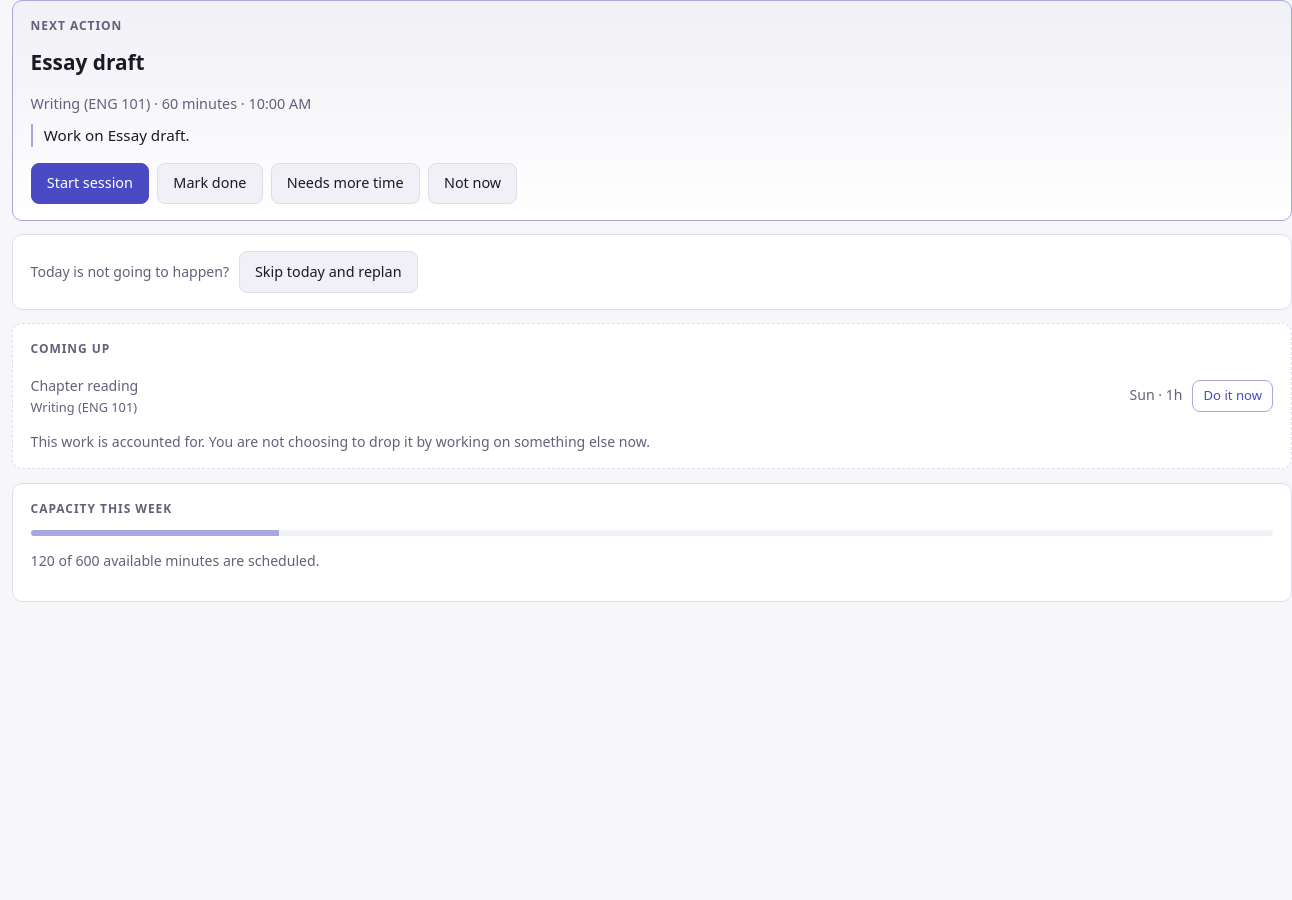
Today, do it now on a Coming up row › shows the failure and leaves the plan alone when the server refuses
The width and height of the screenshot is (1292, 900).
Click the button with class "do-now".
click(1233, 396)  # box [1192,380,1273,412]
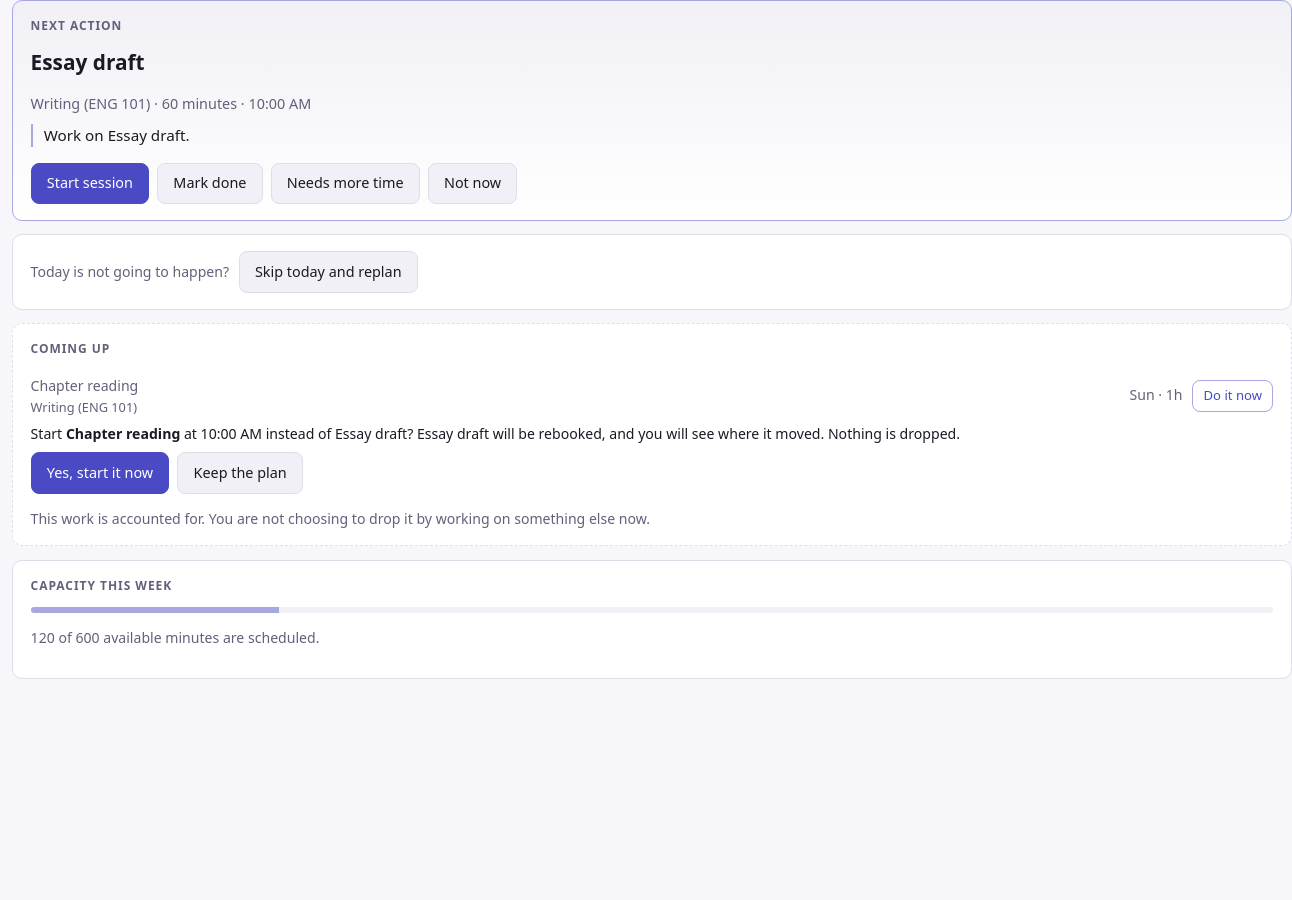
expect the button "Yes, start it now" is shown: met
Click the button "Yes, start it now".
click(100, 473)  # box [31,452,169,494]
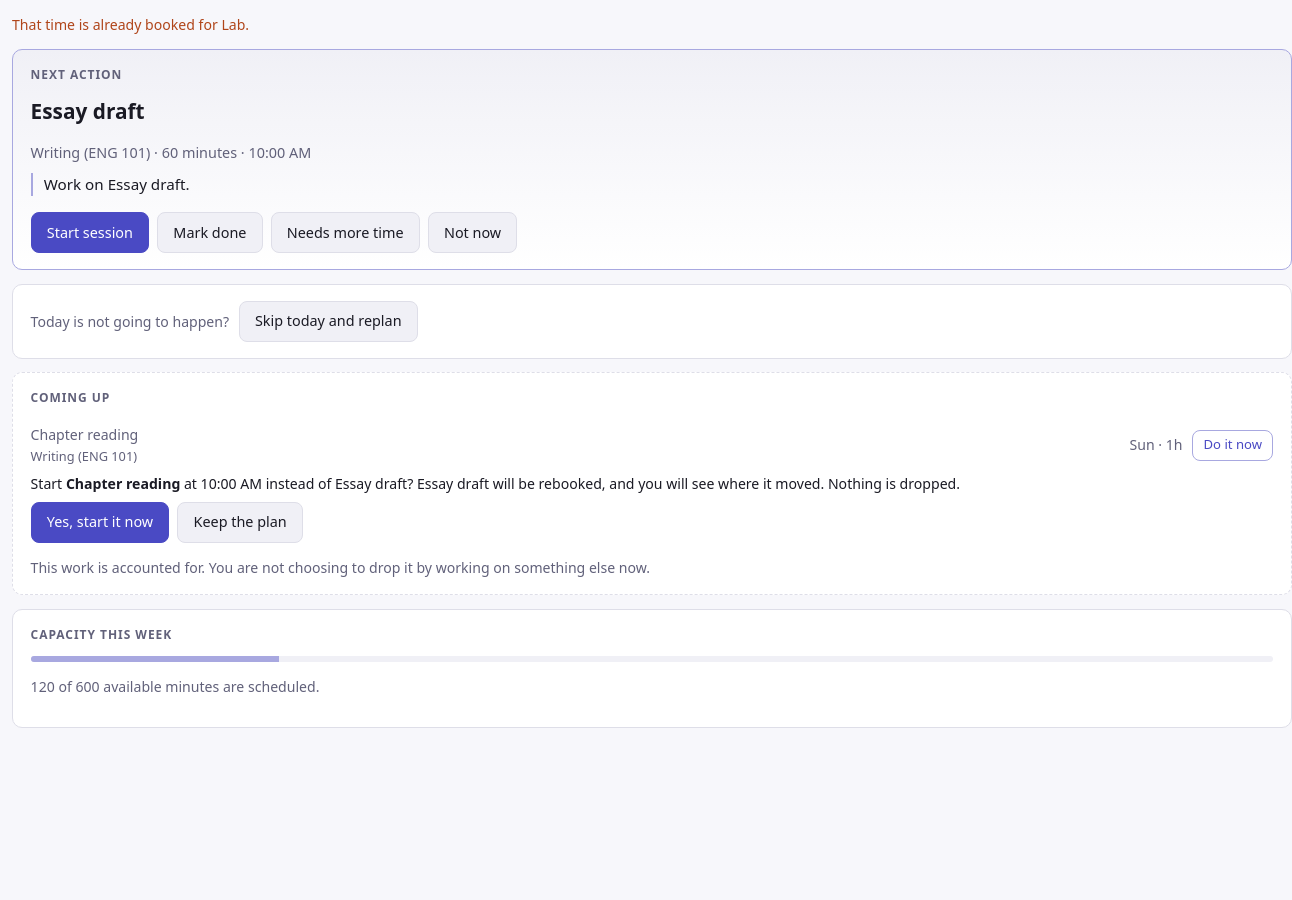
expect the text "That time is already booked for Lab." is shown: met, box [12,15,249,34]
